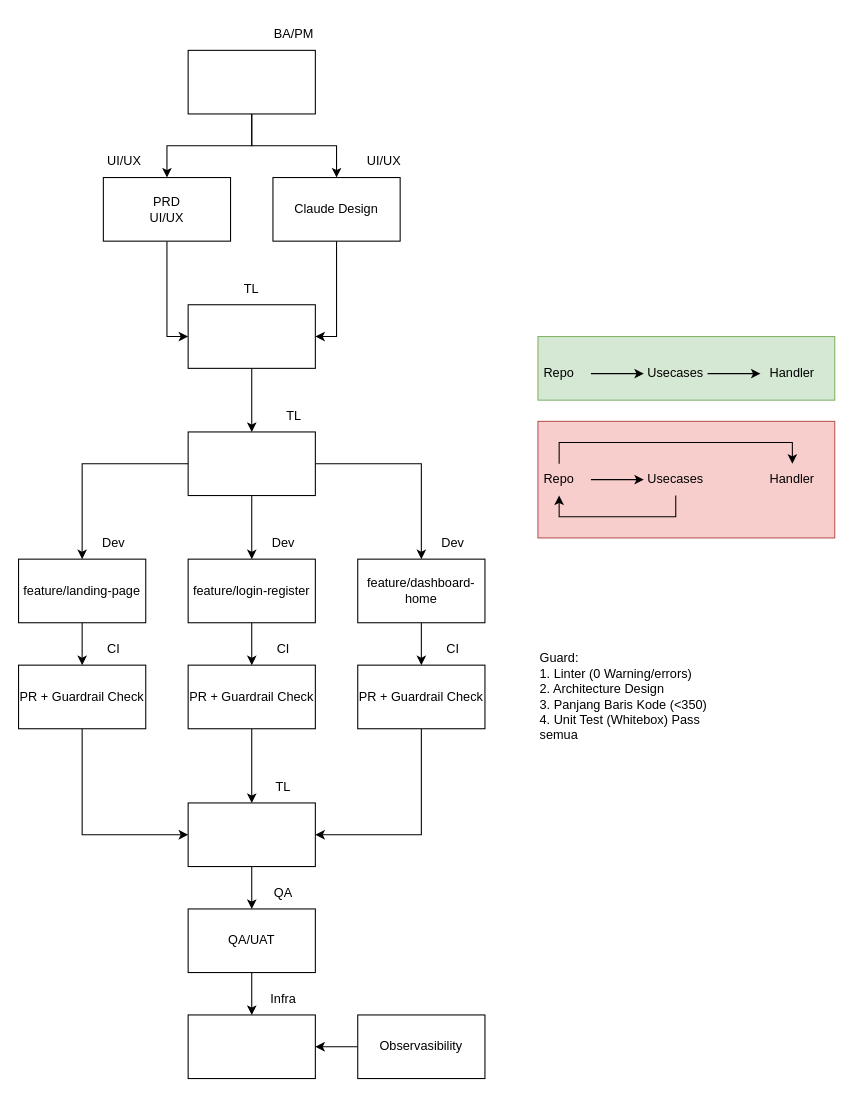
The diagram is 853 pixels wide and 1097 high, and some of its shapes have lost their labels. Each missing label, with the centre of its shape:
"Agents Workspace and Guardrail" goes at pixel 251 336.
"Production" goes at pixel 251 1046.
"Project Resource Gathering" goes at pixel 251 81.
"stagging" goes at pixel 251 834.
"Tech Stack Discovery and User Story" goes at pixel 251 463.
